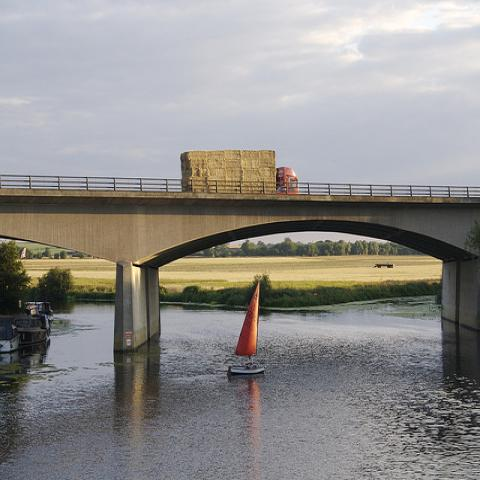truck: (180, 150, 299, 194)
